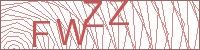F: (30, 20, 52, 48)
W: (55, 18, 89, 47)
Z: (82, 1, 106, 29), (107, 1, 131, 27)
